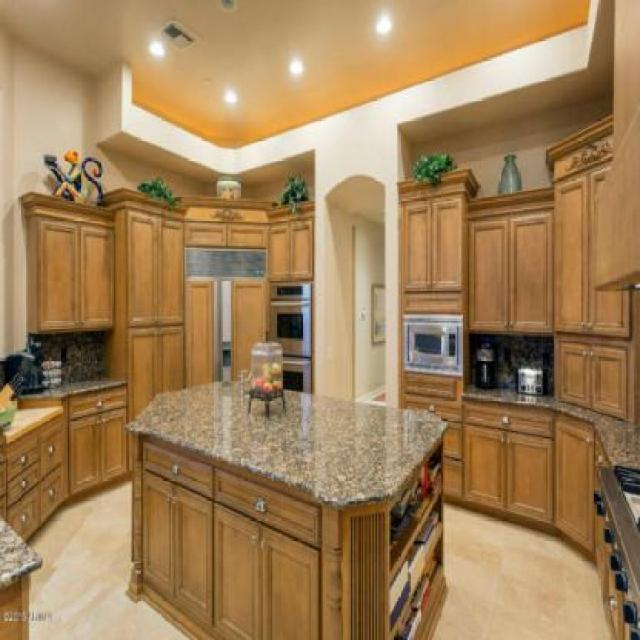Floor: (25, 479, 188, 639), (433, 503, 614, 639)
